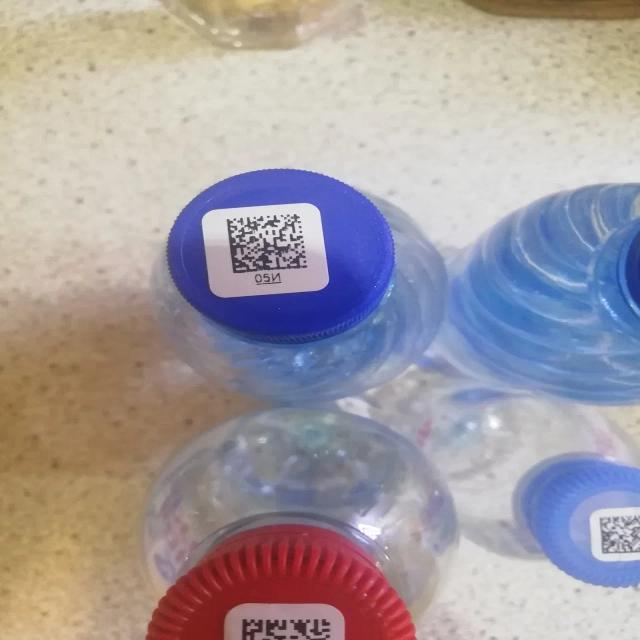datamatrix: (226, 213, 312, 277), (241, 617, 334, 640), (597, 511, 640, 557)
